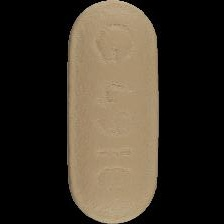55289-381: (0, 0, 224, 224)
